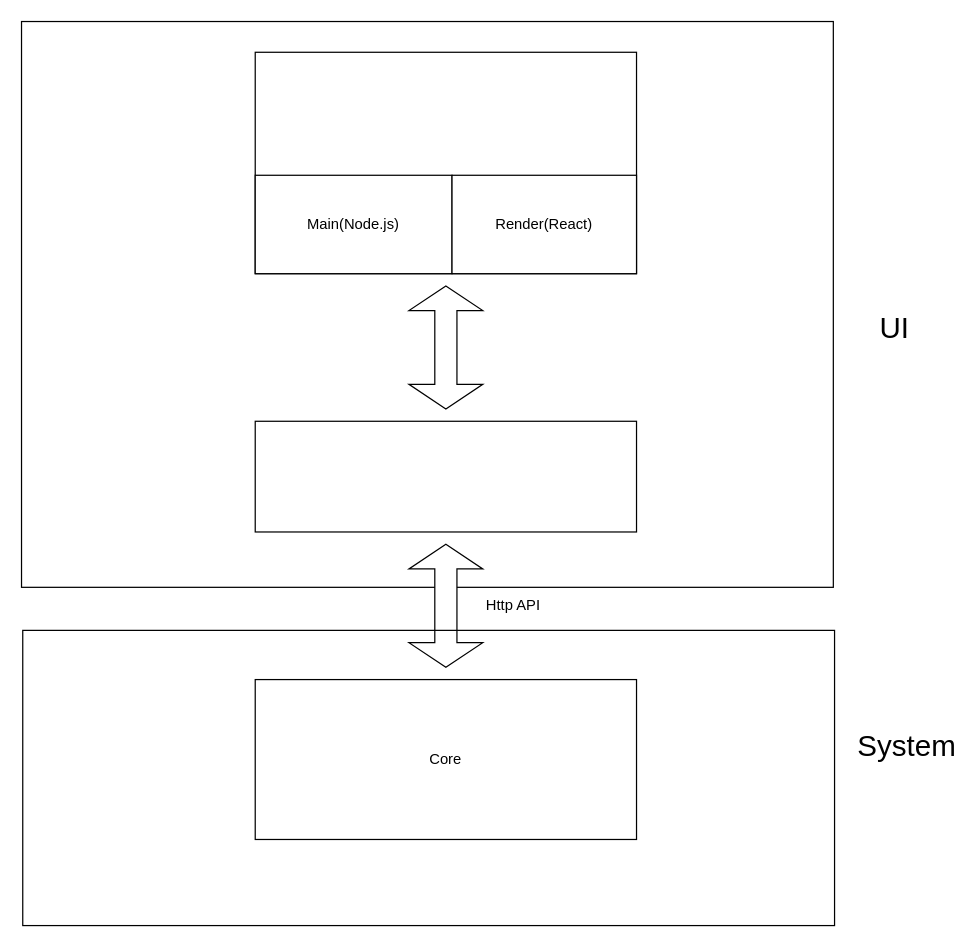
Some shapes in this 978 by 947 pixel diagram are drawn without their labels. Each missing label, with the box of its shape:
Electron: (254, 51, 637, 274)
SDK: (254, 420, 637, 532)
